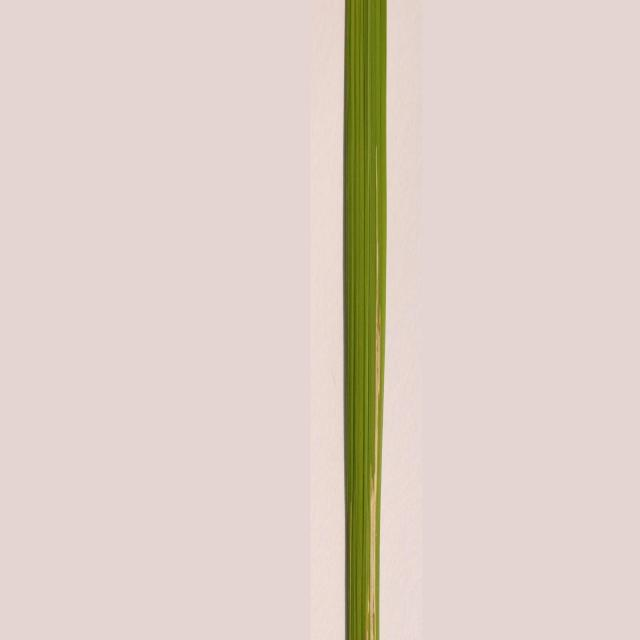Bacterial leaf blight: (343, 0, 389, 640)
